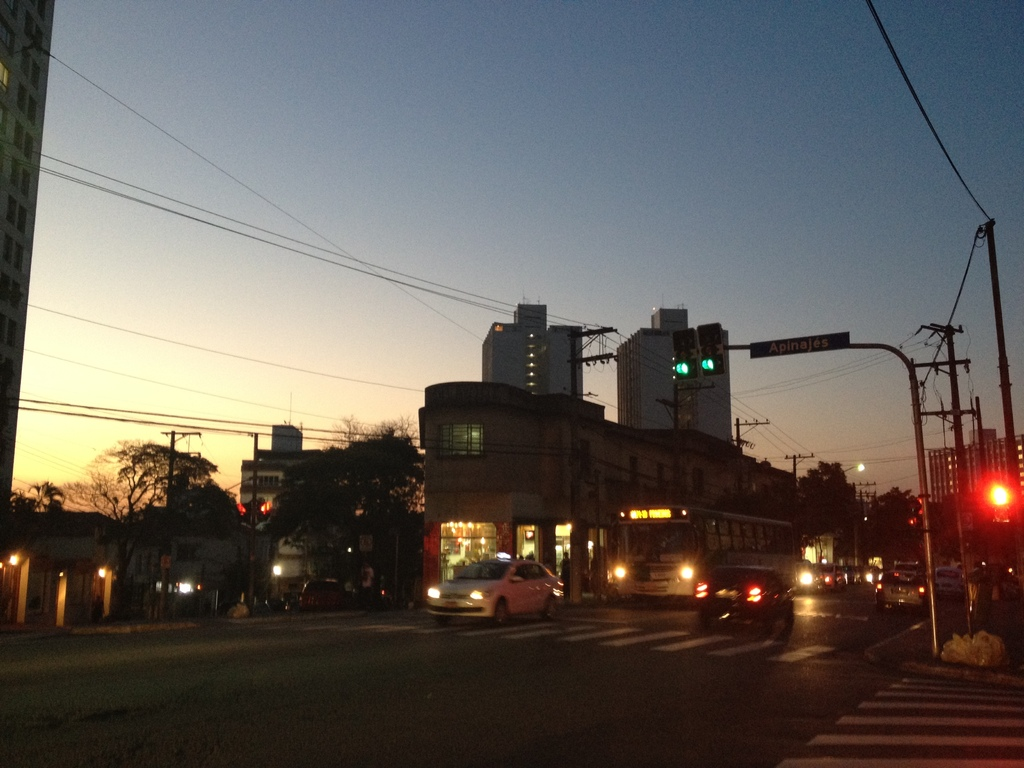red_light: (981, 478, 1013, 510)
